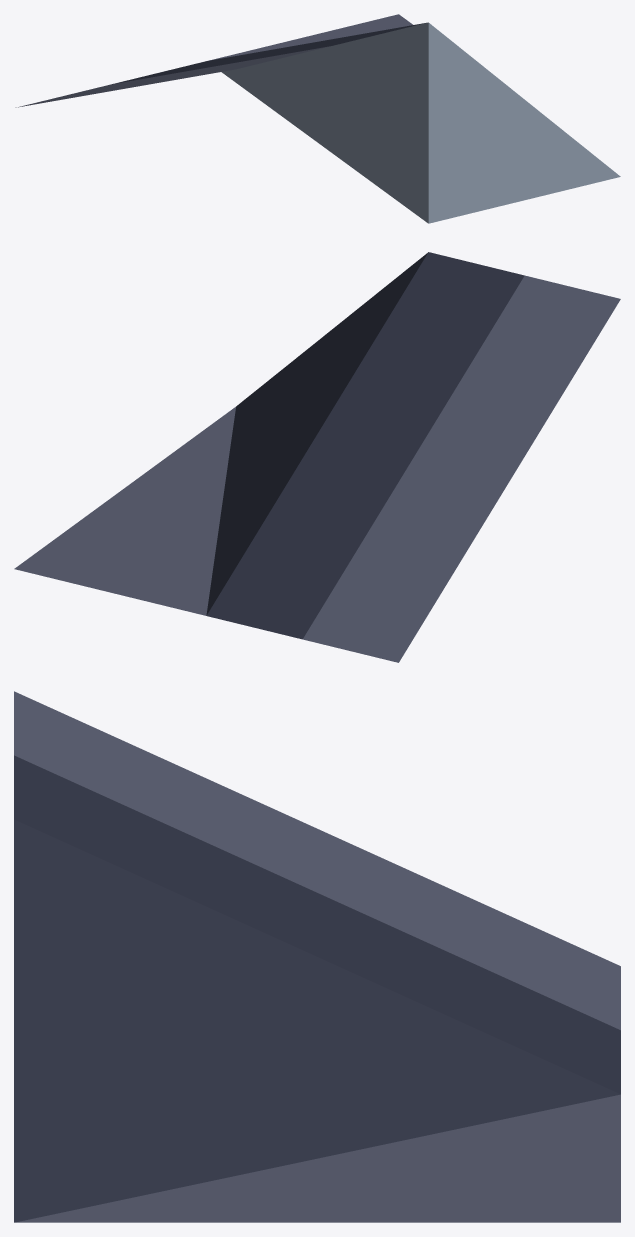
Rendered from terrain_sideEnd.glb.
3 views of the same model, one above another, from view 1: azimuth 30°, elevation 25°; view 2: azimuth 150°, elevation 25°; view 3: azimuth 270°, elevation 25° (orthographic). The views are drawn at different scales.
Parts seen in each view (by area): view 1: terrain_sideEnd; view 2: terrain_sideEnd; view 3: terrain_sideEnd.
Boxes of the visible parts, left/top/right/bottom form: terrain_sideEnd: left=15, top=14, right=620, bottom=223; terrain_sideEnd: left=14, top=252, right=620, bottom=662; terrain_sideEnd: left=14, top=691, right=620, bottom=1222.
Bounding box in the file's own units: 1 × 0.5 × 1.
